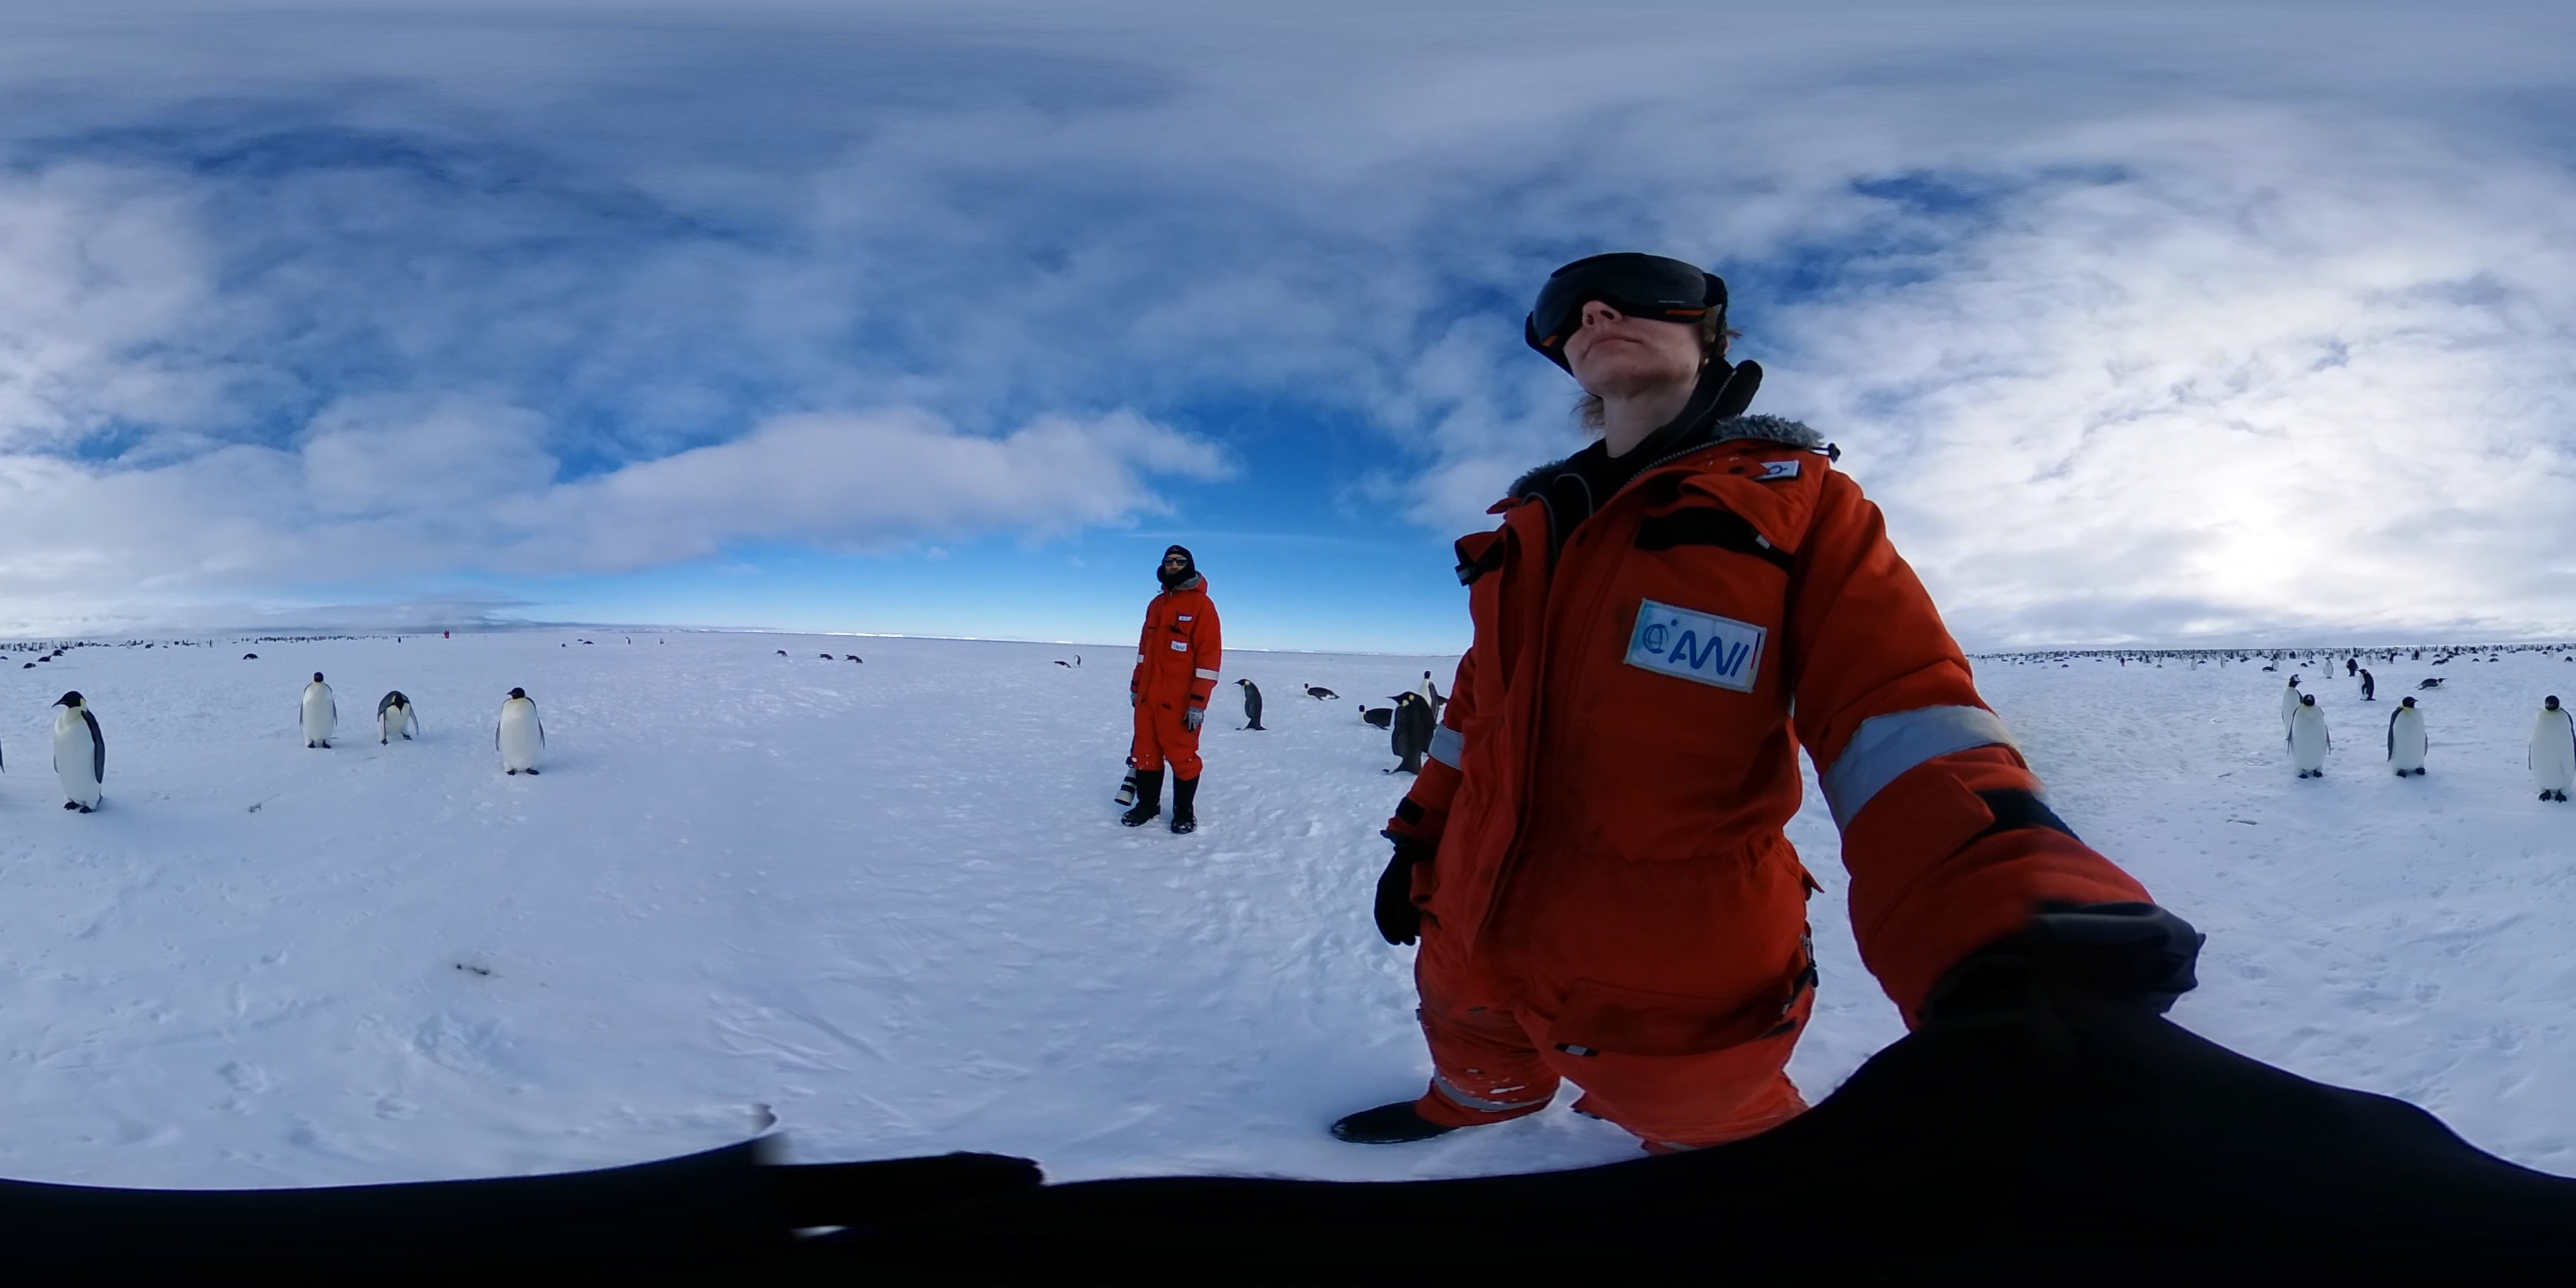adult_standing_penguin: (49, 688, 110, 813), (2522, 692, 2576, 807), (491, 687, 550, 777), (2285, 690, 2331, 787), (2382, 692, 2433, 779), (294, 669, 338, 751), (1388, 692, 1428, 780), (371, 688, 427, 751), (1410, 665, 1446, 738), (2279, 674, 2308, 754), (1229, 677, 1268, 736), (2354, 664, 2382, 705), (1068, 651, 1084, 670)
adult_toboggan_penguin: (1357, 705, 1403, 734), (1299, 680, 1342, 703), (2412, 675, 2449, 693), (1050, 657, 1074, 675), (841, 651, 866, 664), (240, 652, 261, 662), (772, 647, 790, 659), (816, 651, 835, 662)
researcher: (1370, 238, 2236, 1138), (1114, 545, 1211, 838)
